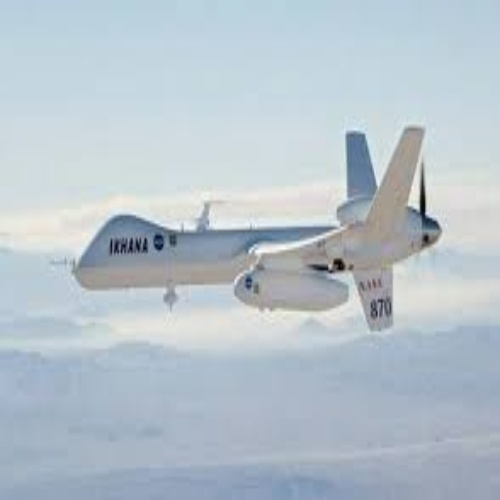uav: (53, 125, 444, 336)
